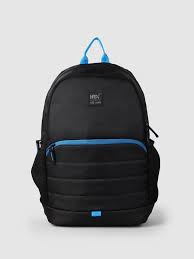backpack: (30, 36, 160, 227)
